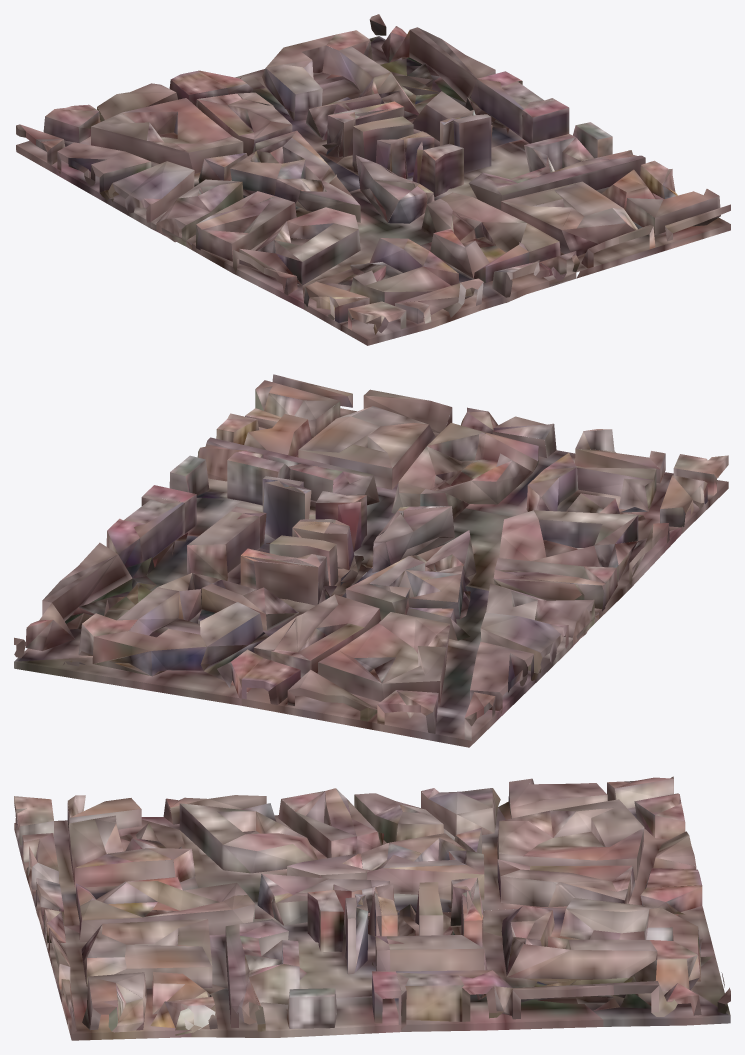
3 renders of one model, top to bottom at view 1: azimuth 30°, elevation 25°; view 2: azimuth 150°, elevation 25°; view 3: azimuth 270°, elevation 25°, orthographic. The views are drawn at different scales.
Visible parts, largest first — view 1: Mesh_0; view 2: Mesh_0; view 3: Mesh_0.
Part boxes in pixels (bbox=[...]): Mesh_0: bbox=[16, 14, 730, 345]; Mesh_0: bbox=[14, 374, 728, 747]; Mesh_0: bbox=[14, 776, 730, 1040].
Bounding box in the file's own units: 535 × 112 × 659.
Materials: 2 (2 with a texture image).
